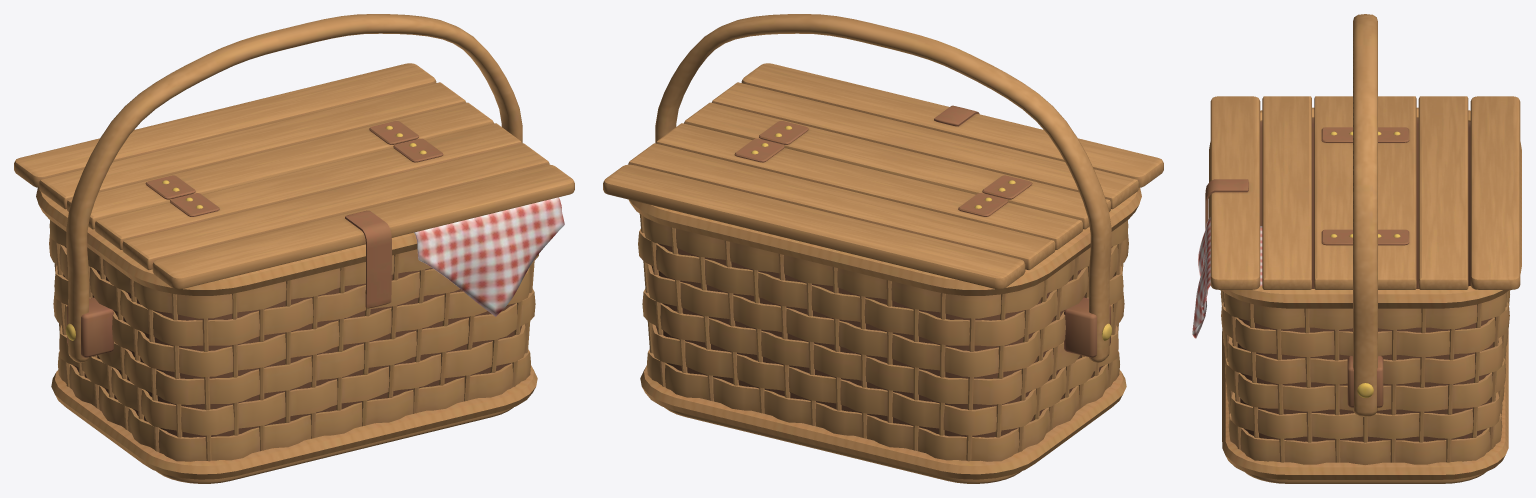
The model's file is picnic_basket.glb.
The picture shows the model from 3 angles, left to right: view 1: azimuth 30°, elevation 25°; view 2: azimuth 150°, elevation 25°; view 3: azimuth 270°, elevation 25°; orthographic projection. The views are drawn at different scales.
Parts seen in each view (by area): view 1: picnic-basket_body, picnic-basket_lid_front, picnic-basket_lid_back; view 2: picnic-basket_body, picnic-basket_lid_back, picnic-basket_lid_front; view 3: picnic-basket_body, picnic-basket_lid_back, picnic-basket_lid_front.
Part boxes in pixels (x1,y1,x2,y2): picnic-basket_body: (36, 14, 564, 483); picnic-basket_lid_front: (95, 123, 574, 308); picnic-basket_lid_back: (14, 63, 493, 229); picnic-basket_body: (629, 14, 1141, 483); picnic-basket_lid_back: (603, 123, 1082, 289); picnic-basket_lid_front: (684, 63, 1163, 229); picnic-basket_body: (1192, 14, 1521, 483); picnic-basket_lid_back: (1378, 96, 1520, 289); picnic-basket_lid_front: (1205, 96, 1352, 289).
Bounding box in the file's own units: 0.4658 × 0.3655 × 0.3131.
Materials: 3 (3 with a texture image).
